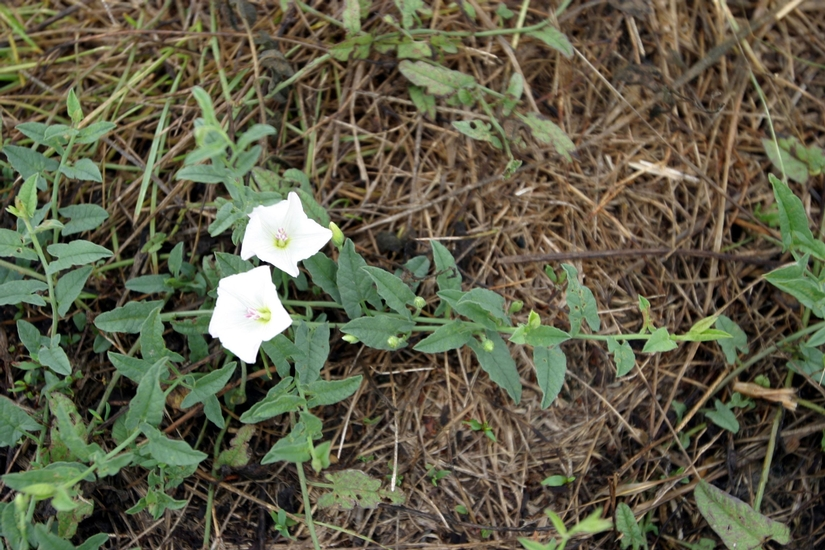bindweed: (202, 262, 296, 365), (240, 191, 333, 279)
